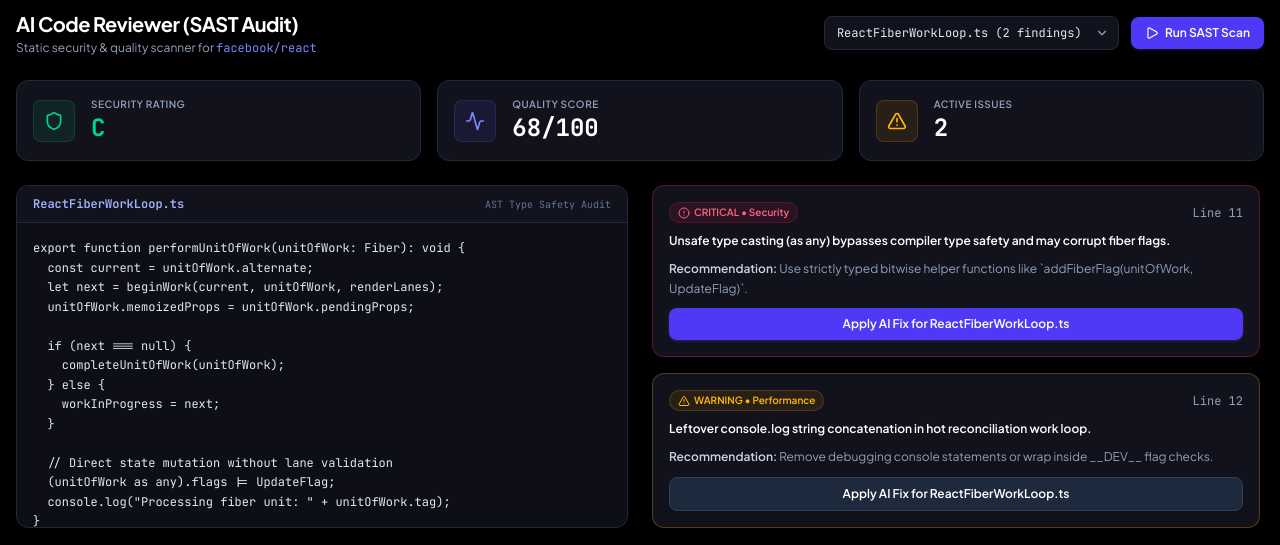
CodeReviewerView Component › renders security findings and allows applying an AI fix
Click the button "Apply AI Fix for ReactFiberWorkLoop.ts" below "11" at (956,324), box [669, 308, 1243, 340]
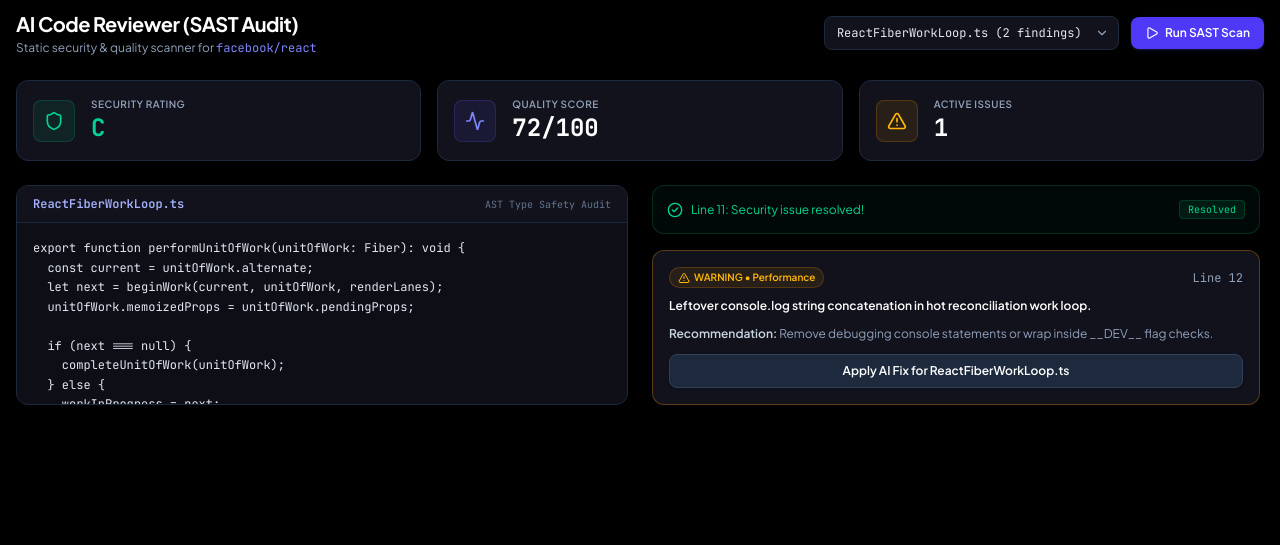
Expected: the text "Line 11: Security issue resolved!" is shown, [667, 202, 864, 218]
